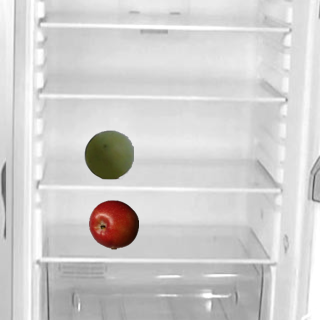Apple Braeburn: (88, 199, 138, 249)
Grape White 4: (83, 129, 133, 179)
